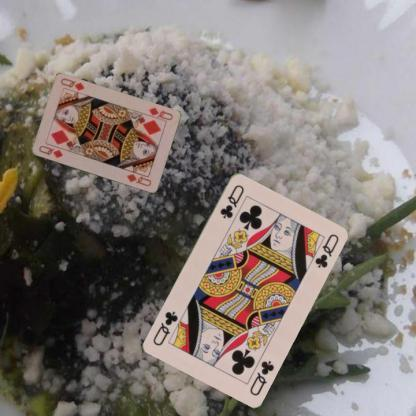Qc: (246, 357, 276, 397), (217, 182, 246, 219)
Qd: (143, 105, 174, 124), (36, 142, 64, 160)
